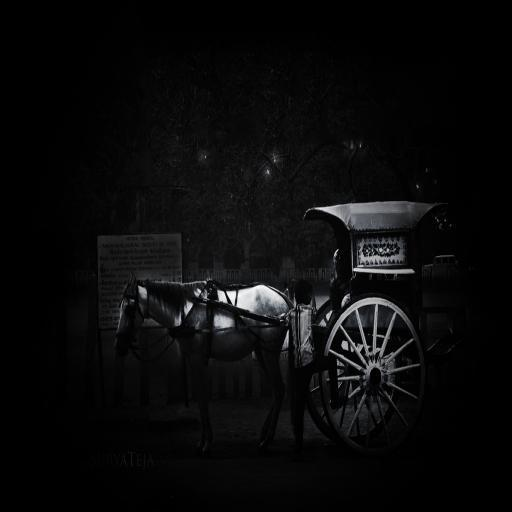horse: (110, 267, 290, 447)
